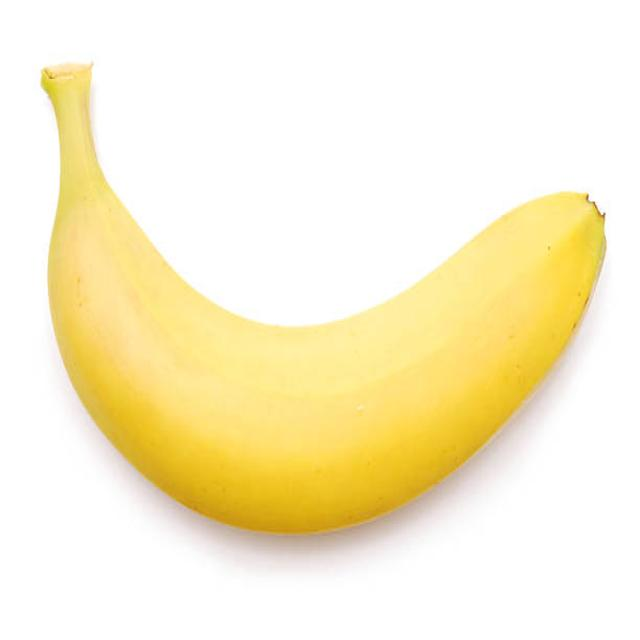Ripe: (42, 54, 611, 536)
